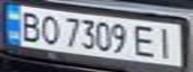0: (93, 19, 112, 53)
3: (78, 17, 96, 51)
7: (60, 15, 81, 48)
9: (109, 20, 133, 55)
B: (15, 8, 42, 43)
E: (133, 22, 160, 58)
I: (151, 26, 178, 61)
O: (36, 12, 60, 45)
